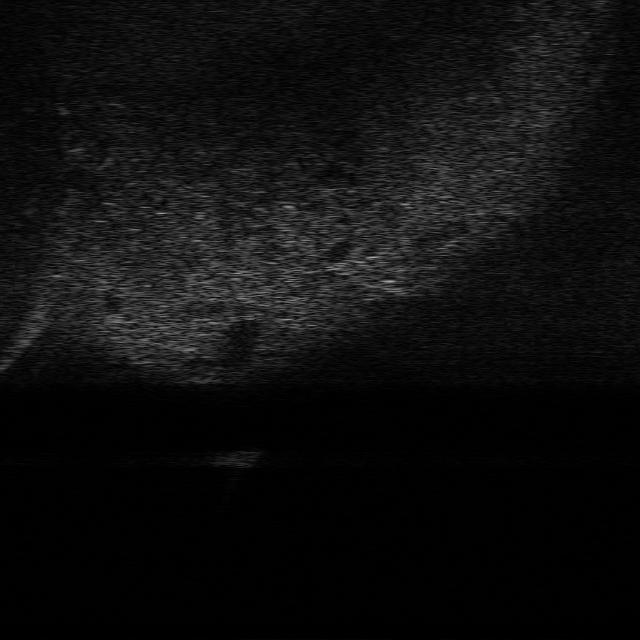cube: (216, 449, 262, 469)
